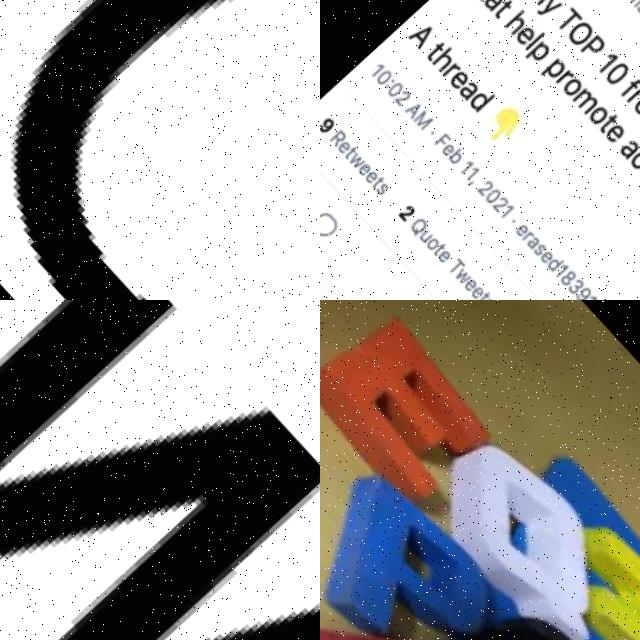4: (557, 270, 576, 289)
5: (320, 116, 335, 136), (570, 286, 591, 300)
A: (407, 21, 439, 51), (615, 139, 640, 164), (456, 81, 479, 103), (403, 101, 423, 120), (481, 0, 505, 14), (523, 237, 539, 252)
B: (446, 149, 465, 166)
C: (625, 150, 640, 173)
D: (465, 85, 496, 115), (543, 255, 563, 274)
E: (320, 300, 522, 536), (601, 122, 625, 147), (446, 69, 470, 93), (513, 25, 538, 48), (511, 224, 528, 240), (334, 140, 351, 156), (433, 250, 450, 266), (536, 251, 552, 267), (629, 95, 640, 118), (465, 286, 482, 300), (439, 144, 454, 159), (355, 163, 370, 178), (362, 170, 377, 185), (461, 278, 476, 293)
F: (617, 78, 640, 101), (433, 134, 450, 151)
H: (503, 9, 532, 36), (430, 46, 459, 73), (471, 0, 501, 3)
J: (634, 0, 640, 16)
L: (524, 32, 547, 52)
M: (569, 88, 600, 118), (411, 110, 434, 132), (523, 0, 557, 8), (624, 0, 640, 11)
O: (564, 20, 596, 51), (559, 76, 584, 101), (584, 105, 610, 129), (424, 238, 438, 252)
P: (320, 446, 510, 640), (577, 35, 607, 64), (523, 41, 553, 69), (539, 58, 569, 86)
Q: (408, 418, 640, 640), (404, 215, 429, 239)
R: (554, 71, 574, 90), (440, 63, 460, 82), (327, 130, 347, 149), (625, 90, 640, 107), (519, 231, 534, 244)
S: (529, 243, 545, 259), (373, 182, 388, 197), (476, 296, 494, 300)
T: (553, 8, 583, 36), (595, 114, 619, 136), (423, 41, 446, 63), (491, 0, 514, 20), (444, 259, 464, 277), (368, 175, 384, 190), (429, 242, 445, 257), (341, 146, 356, 160), (473, 291, 489, 300), (635, 158, 640, 180)
U: (415, 230, 431, 245)
W: (0, 300, 320, 640), (450, 268, 469, 288), (347, 153, 364, 170)
Y: (534, 0, 563, 23)
